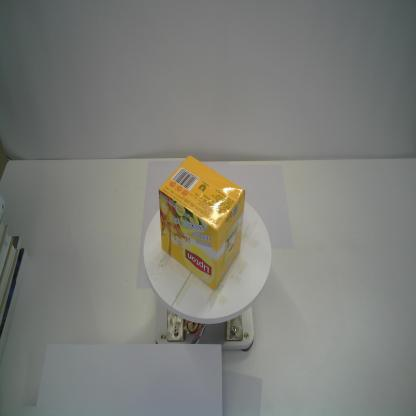Instant Drink: (159, 154, 246, 291)
